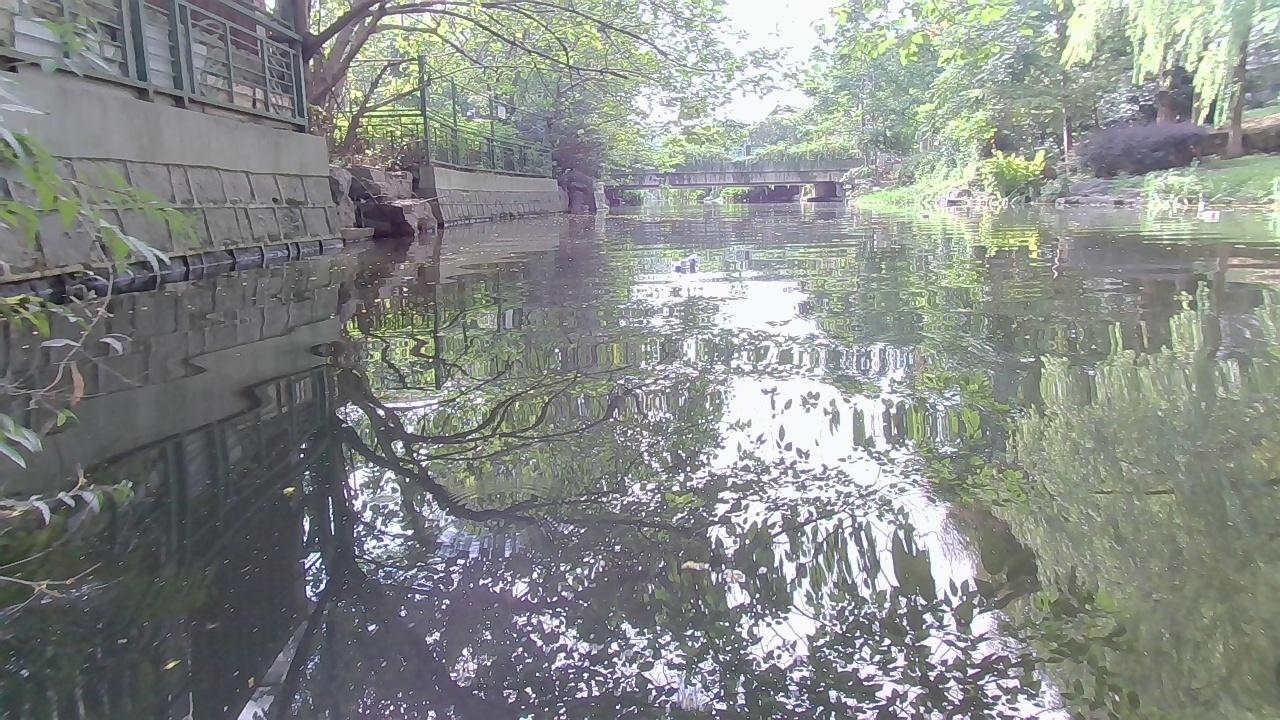bottle: (671, 251, 696, 270), (730, 243, 750, 261), (1195, 209, 1223, 219)
